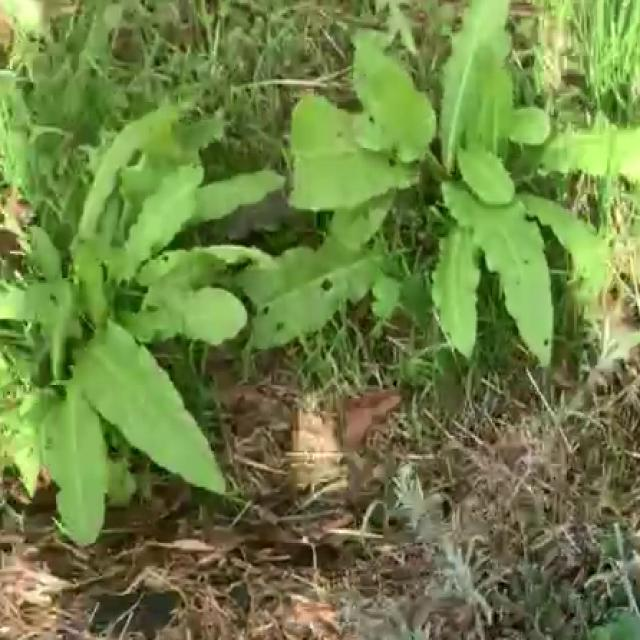organic waste: (284, 33, 640, 398), (0, 49, 261, 540)
